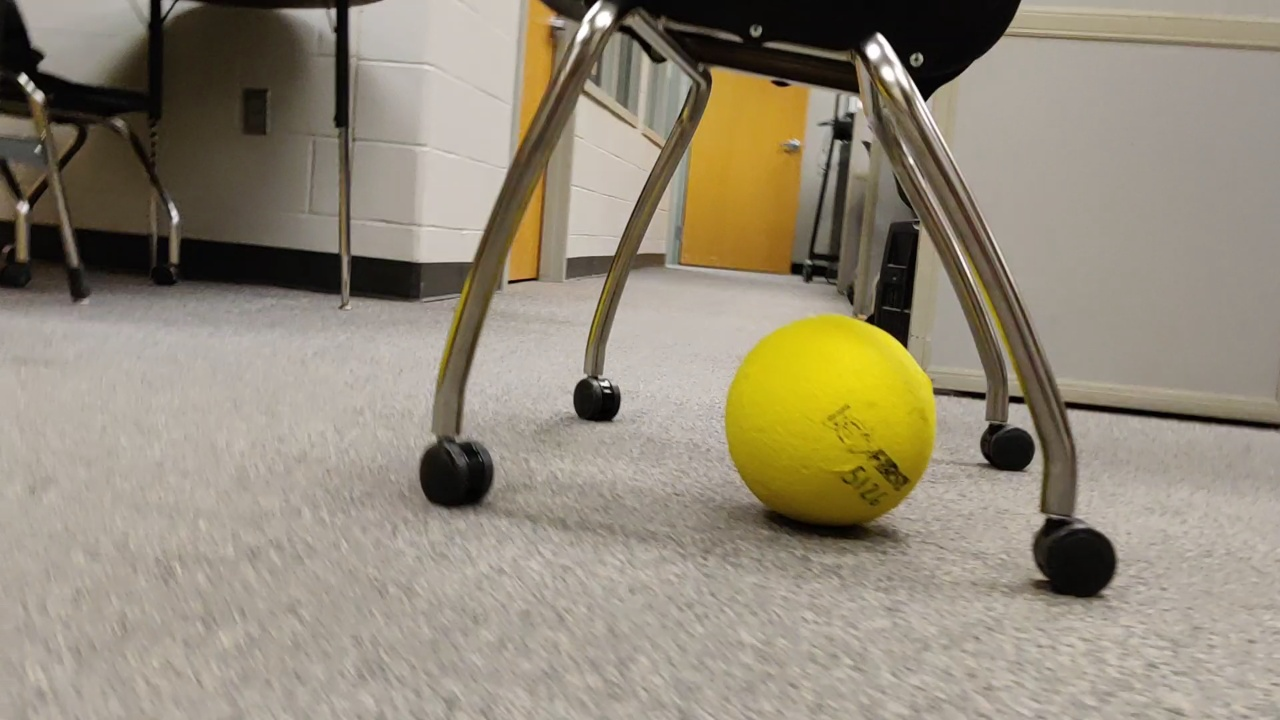Ball: (723, 317, 944, 538)
